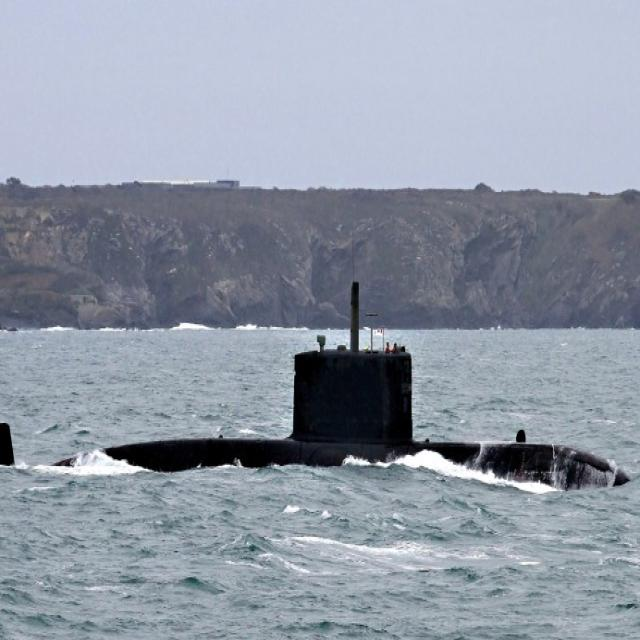submarine: (1, 281, 640, 473)
